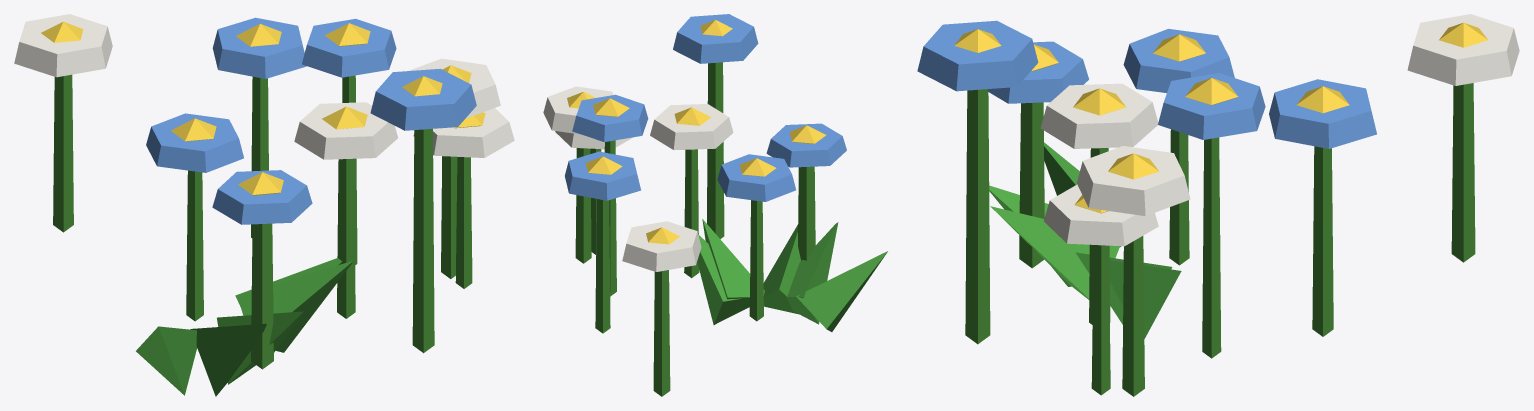
Rendered from Flowers_Blue.fbx.
3 renders of one model, left to right at view 1: azimuth 30°, elevation 25°; view 2: azimuth 150°, elevation 25°; view 3: azimuth 270°, elevation 25°, orthographic. The views are drawn at different scales.
Parts seen in each view (by area): view 1: Flowers_Blue; view 2: Flowers_Blue; view 3: Flowers_Blue.
Part boxes in pixels (x1,y1,x2,y2): Flowers_Blue: [14, 14, 514, 396]; Flowers_Blue: [543, 14, 887, 396]; Flowers_Blue: [917, 14, 1519, 396].
Size of the model in its own units: 0.7988 by 0.6218 by 0.9621.
